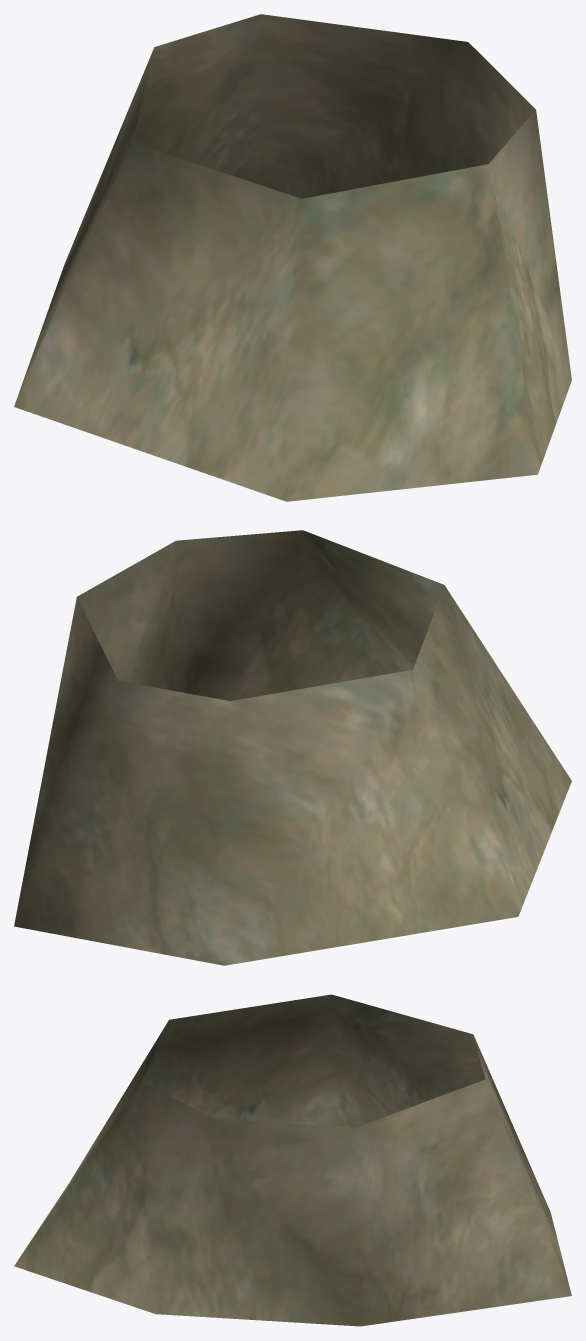
File: EKH_GROTTO_PS_GR_OBJECT53.fbx
The picture shows the model from 3 angles, top to bottom: view 1: azimuth 30°, elevation 25°; view 2: azimuth 150°, elevation 25°; view 3: azimuth 270°, elevation 25°; orthographic projection. The views are drawn at different scales.
Parts seen in each view (by area): view 1: EKH_GROTTO_PS_GR_OBJECT53; view 2: EKH_GROTTO_PS_GR_OBJECT53; view 3: EKH_GROTTO_PS_GR_OBJECT53.
Boxes of the visible parts, <box> form: EKH_GROTTO_PS_GR_OBJECT53: <box>14,14,571,501</box>; EKH_GROTTO_PS_GR_OBJECT53: <box>14,530,571,965</box>; EKH_GROTTO_PS_GR_OBJECT53: <box>14,994,571,1326</box>.
Size of the model in its own units: 13665 by 6693 by 17244.
1 material, 1 textured.
